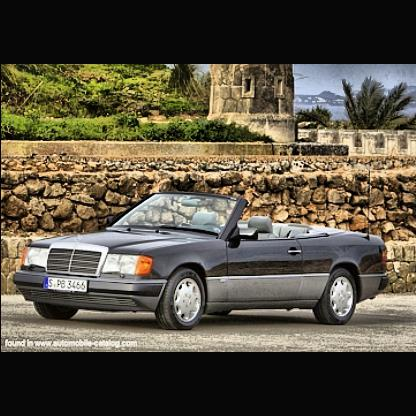Mercedes-Benz 300-Class Convertible 1993: (9, 189, 392, 333)
